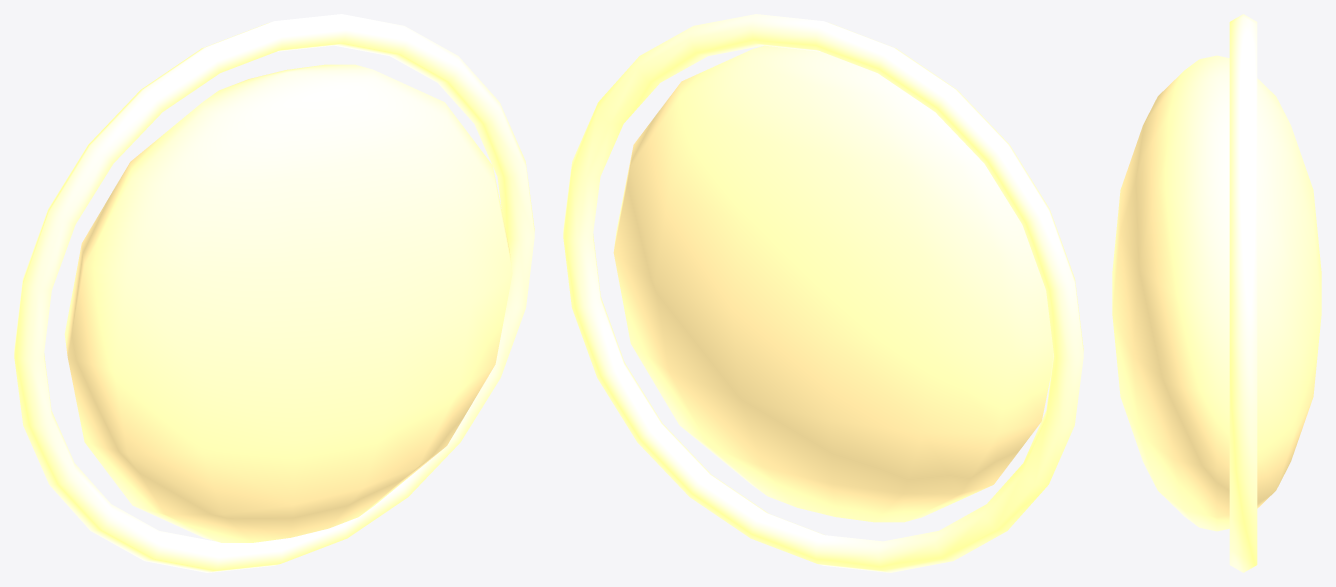
File: manna.glb
3 views of the same model, side by side, from view 1: azimuth 30°, elevation 25°; view 2: azimuth 150°, elevation 25°; view 3: azimuth 270°, elevation 25° (orthographic). The views are drawn at different scales.
Parts seen in each view (by area): view 1: Bread, Glow; view 2: Bread, Glow; view 3: Bread, Glow.
Boxes of the visible parts, x1,y1,x2,y2 form: Bread: (64,64,512,542); Glow: (14,14,534,572); Bread: (613,45,1053,522); Glow: (563,14,1083,572); Bread: (1112,55,1321,531); Glow: (1229,14,1257,572).
Bounding box in the file's own units: 1.06 × 1.06 × 0.3948.
